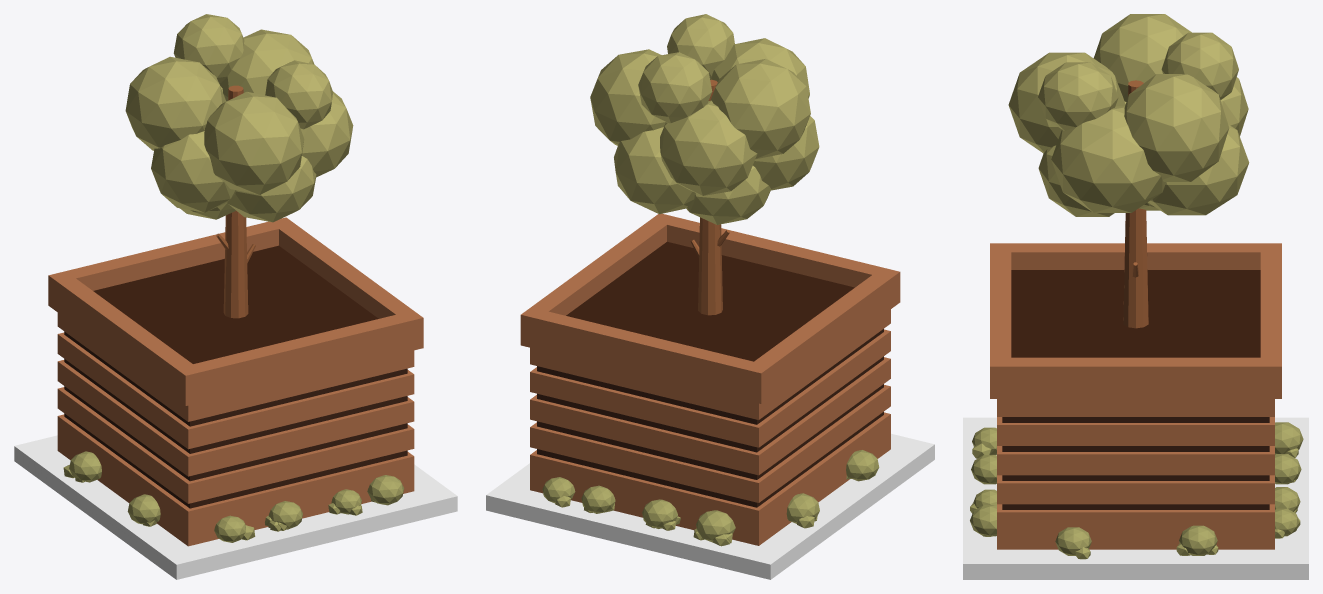
File: 38-tree-planter-box-bs3.glb
3 views of the same model, side by side, from view 1: azimuth 30°, elevation 25°; view 2: azimuth 150°, elevation 25°; view 3: azimuth 270°, elevation 25° (orthographic). The views are drawn at different scales.
Parts seen in each view (by area): view 1: SoilInside, SoilBed, RimS, Slat4, Slat2, Slat3, Lobe6, Slat1, GrooveCore, Lobe4, Slat5, RimW (+15 smaller); view 2: SoilInside, SoilBed, RimN, Slat4, Slat3, Slat2, Slat1, GrooveCore, Lobe4, Lobe7, Slat5, RimW (+17 smaller); view 3: SoilInside, SoilBed, RimE, Lobe5, Lobe8, Slat2, Slat3, Slat4, GrooveCore, Slat1, RimW, Slat5 (+20 smaller).
Boxes of the visible parts, x1=… form: SoilInside: x1=93, y1=245, x2=378, y2=363; SoilBed: x1=14, y1=435, x2=457, y2=579; RimS: x1=175, y1=310, x2=423, y2=405; Slat4: x1=57, y1=332, x2=414, y2=449; Slat2: x1=57, y1=387, x2=414, y2=503; Slat3: x1=57, y1=360, x2=414, y2=476; Lobe6: x1=204, y1=92, x2=304, y2=194; Slat1: x1=57, y1=414, x2=414, y2=531; GrooveCore: x1=64, y1=331, x2=407, y2=508; Lobe4: x1=125, y1=56, x2=226, y2=150; Slat5: x1=57, y1=313, x2=414, y2=421; RimW: x1=58, y1=278, x2=192, y2=398; SoilInside: x1=566, y1=241, x2=854, y2=361; SoilBed: x1=486, y1=433, x2=934, y2=579; RimN: x1=520, y1=307, x2=771, y2=403; Slat4: x1=530, y1=329, x2=890, y2=447; Slat3: x1=530, y1=357, x2=890, y2=475; Slat2: x1=530, y1=385, x2=890, y2=502; Slat1: x1=530, y1=412, x2=890, y2=530; GrooveCore: x1=537, y1=329, x2=883, y2=507; Lobe4: x1=710, y1=59, x2=810, y2=159; Lobe7: x1=660, y1=100, x2=757, y2=195; Slat5: x1=530, y1=309, x2=890, y2=419; RimW: x1=754, y1=275, x2=889, y2=395; SoilInside: x1=1011, y1=270, x2=1260, y2=357; SoilBed: x1=963, y1=417, x2=1308, y2=579; RimE: x1=1011, y1=357, x2=1260, y2=398; Lobe5: x1=1124, y1=74, x2=1229, y2=181; Lobe8: x1=1051, y1=106, x2=1165, y2=212; Slat2: x1=997, y1=475, x2=1274, y2=504; Slat3: x1=997, y1=446, x2=1274, y2=475; Slat4: x1=997, y1=417, x2=1274, y2=445; GrooveCore: x1=1002, y1=417, x2=1269, y2=509; Slat1: x1=997, y1=504, x2=1274, y2=533; RimW: x1=1011, y1=243, x2=1260, y2=269; Slat5: x1=997, y1=399, x2=1274, y2=416.
Size of the model in its own units: 1.94 by 2.94 by 1.94.
